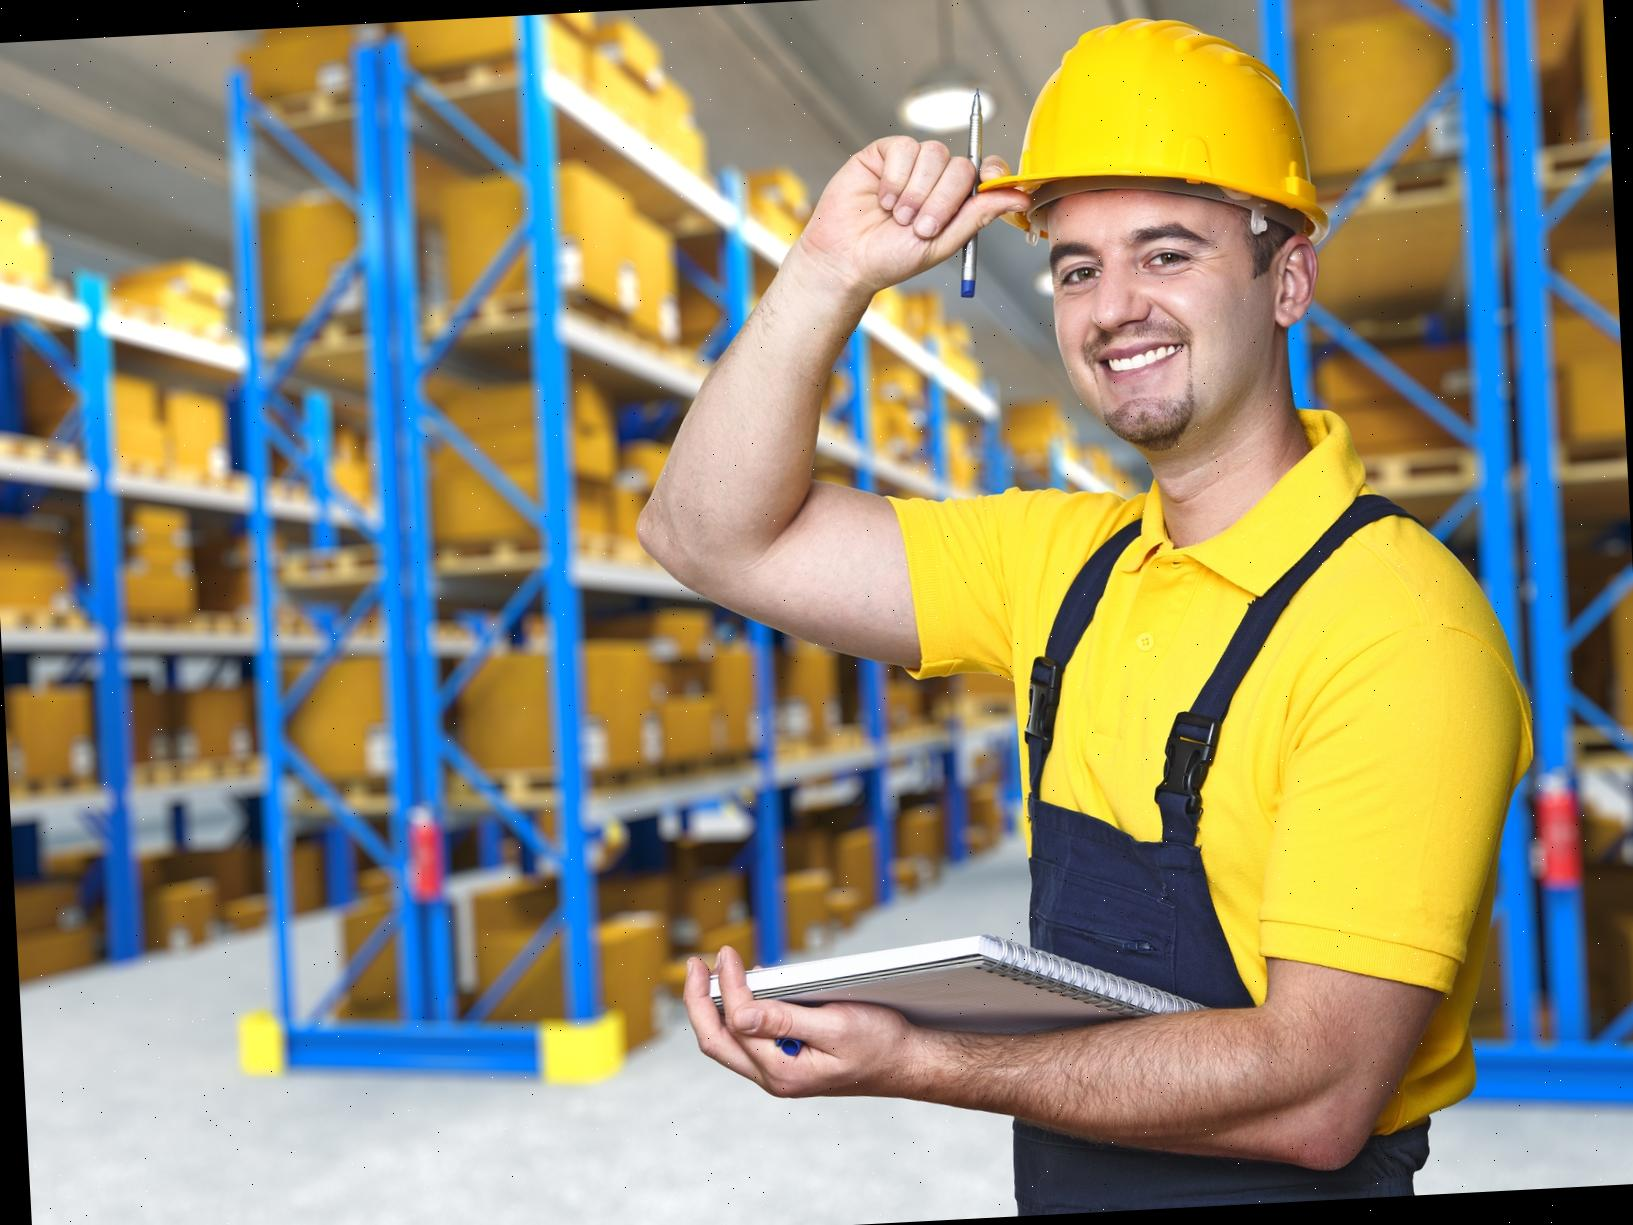helmet: (964, 0, 1324, 256)
no_wear: (1000, 467, 1499, 1090)
